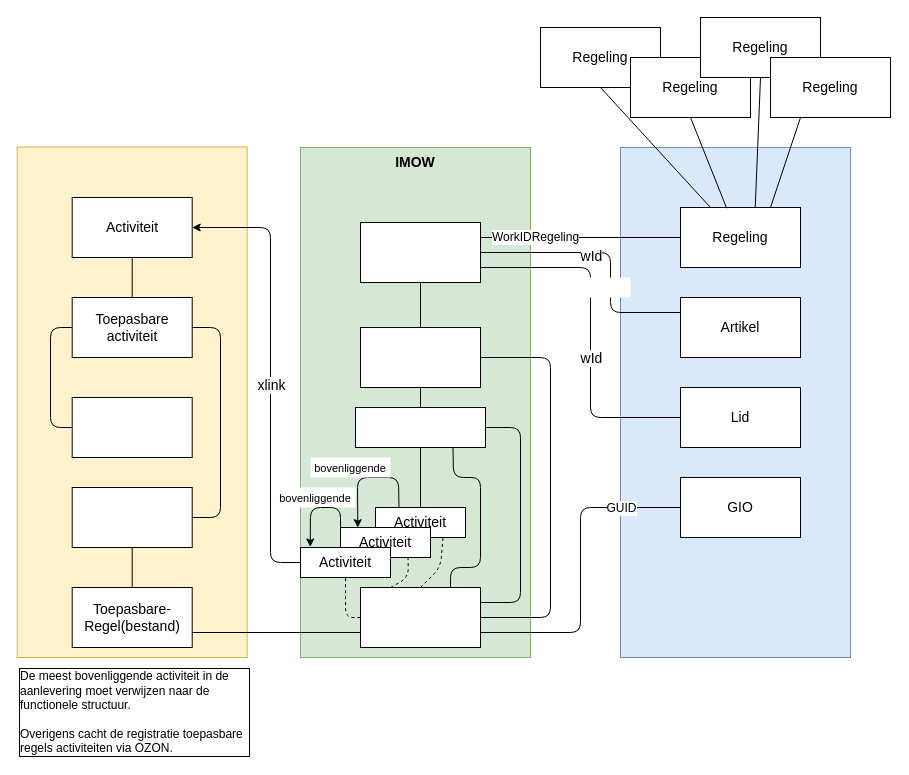
Some shapes in this 909 by 775 pixel diagram are drawn without their labels. The box of each missing label's shape, as (x1, y1, x2, y2) in pixels:
ActiviteitLocatie- aanduiding: (354, 406, 486, 448)
artikel of lid: (550, 277, 630, 297)
IMOP: (620, 146, 850, 658)
IMTR: (16, 146, 247, 658)
Juridische Regel: (360, 326, 480, 388)
Locatie: (360, 586, 480, 648)
Regelbeheer-object: (71, 486, 192, 548)
Regeltekst: (360, 222, 480, 282)
Werkzaamheid: (71, 396, 192, 458)
